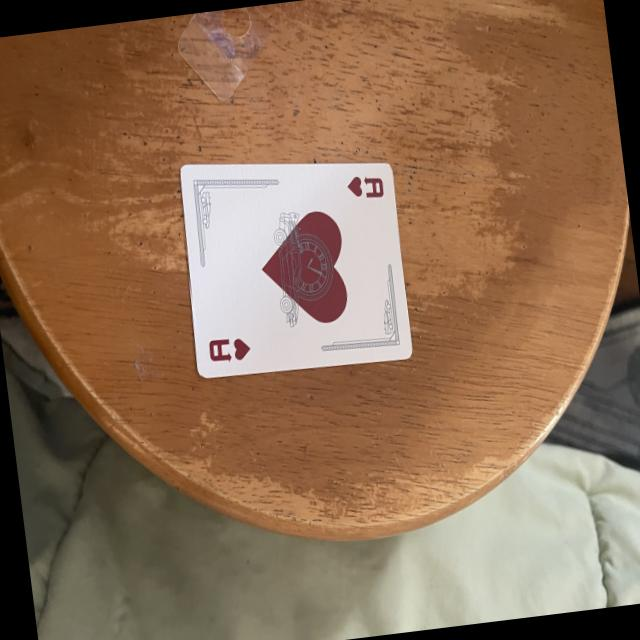Ace of hearts: (186, 167, 410, 379)
